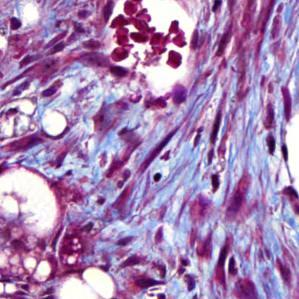steatosis: (39, 105, 68, 136)
